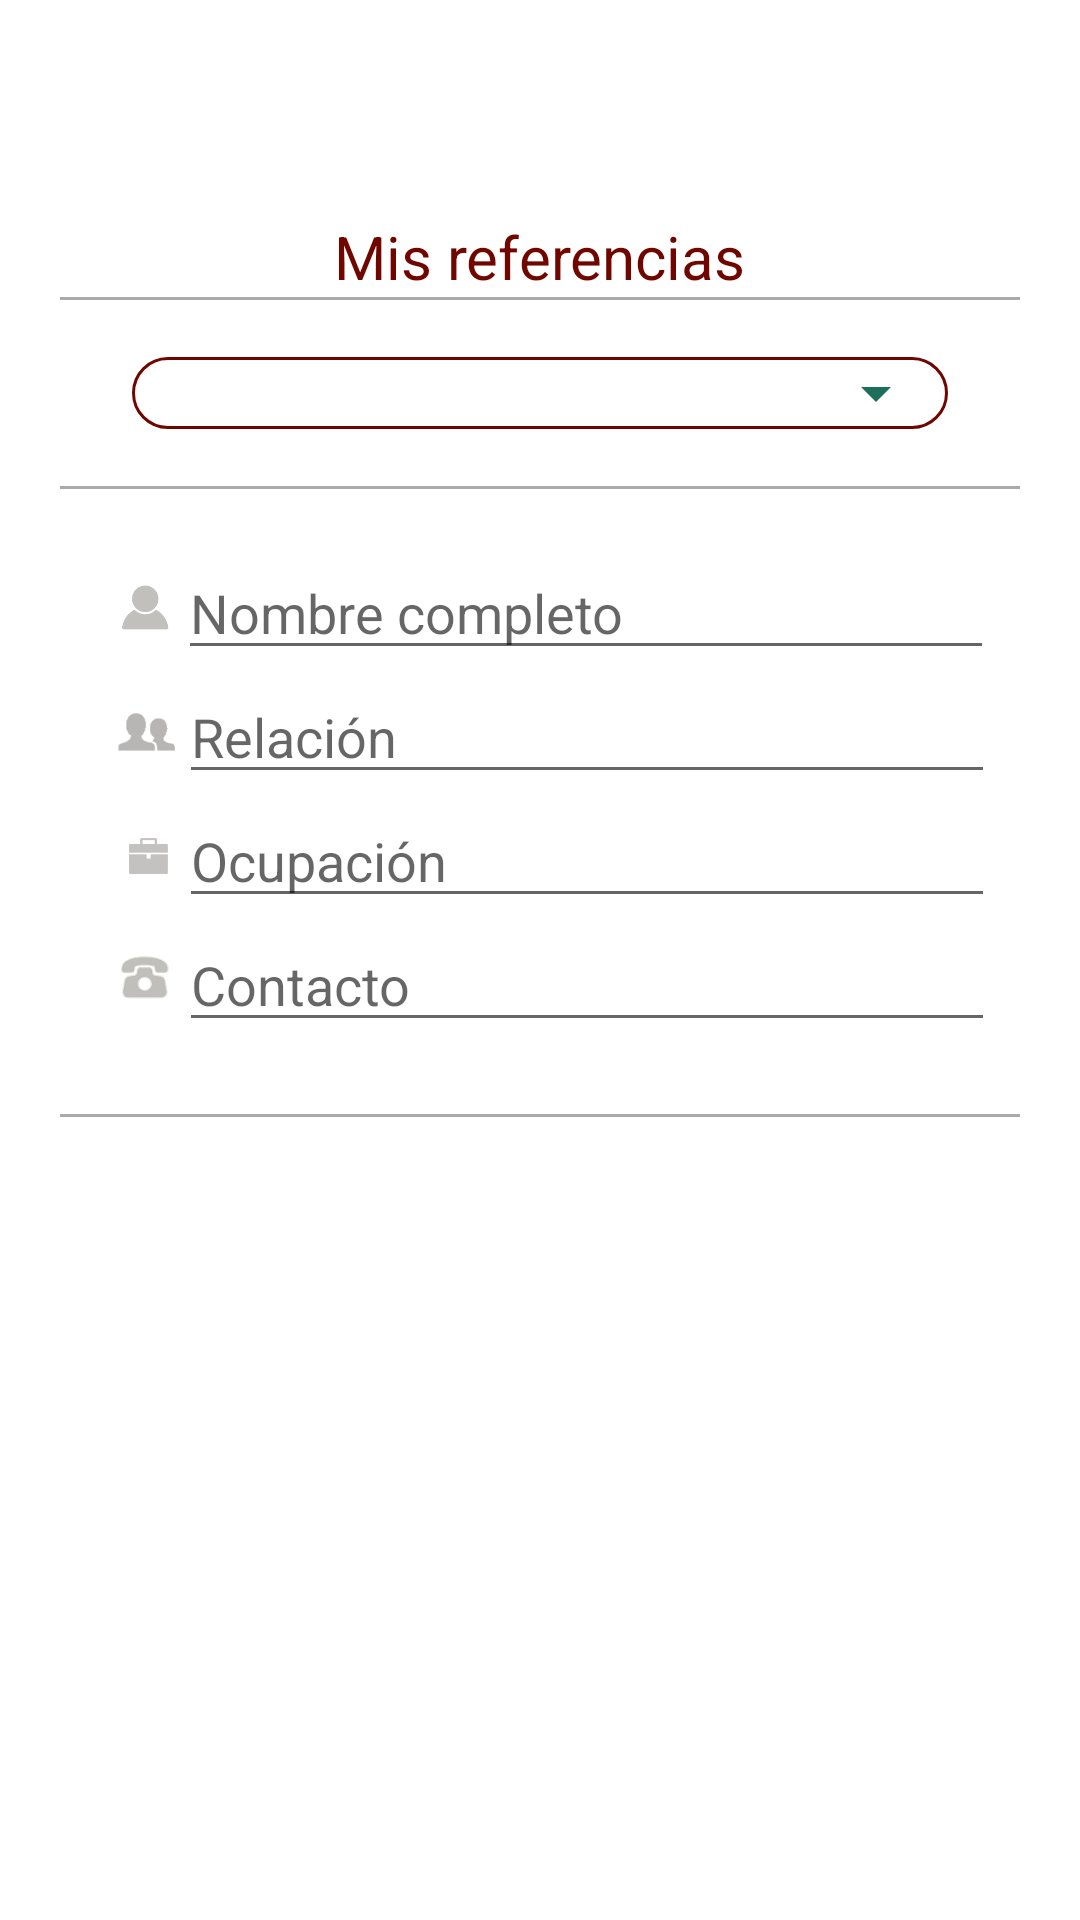

Named icons in this screenshot (1080w x 1920h) and their bounding boxes, bbox=[x1, y1, x2, y2]:
profesional: bbox=[129, 838, 168, 874]
profile: bbox=[122, 585, 168, 629]
relation: bbox=[118, 713, 175, 751]
